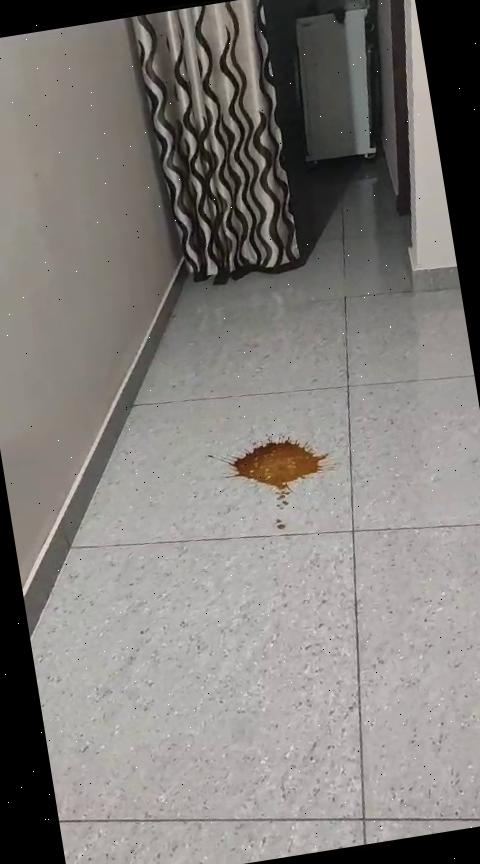dirty_floor: (210, 420, 346, 548)
